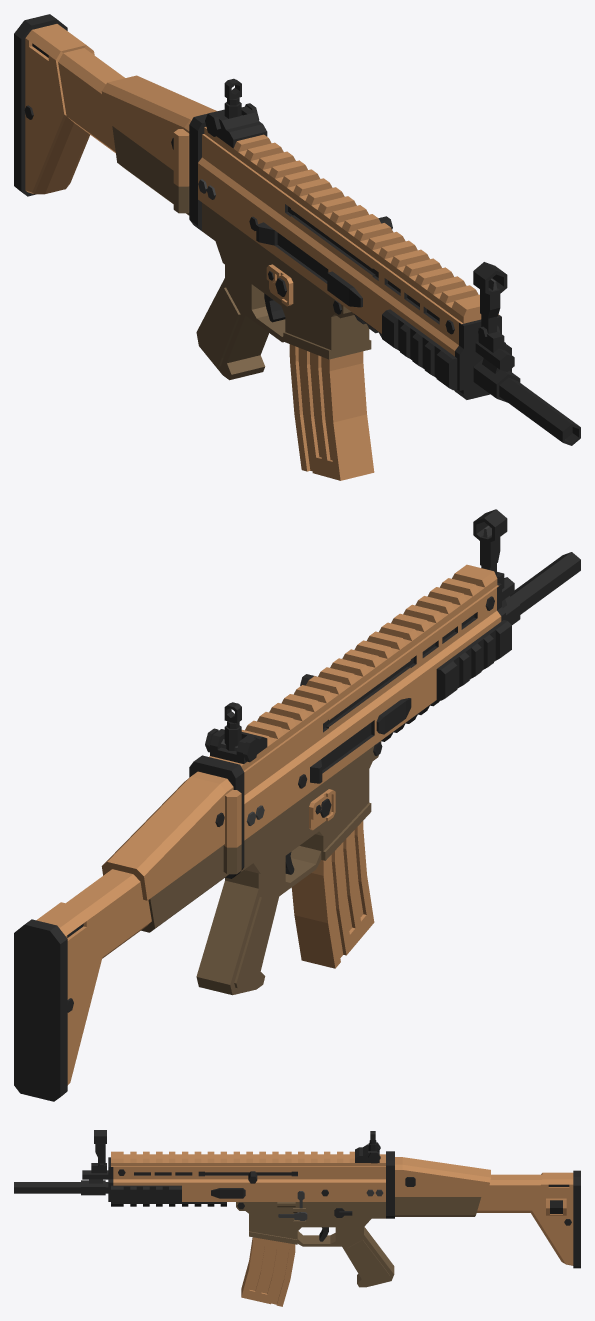
The picture shows the model from 3 angles, top to bottom: view 1: azimuth 30°, elevation 25°; view 2: azimuth 150°, elevation 25°; view 3: azimuth 270°, elevation 25°; orthographic projection. The views are drawn at different scales.
Visible parts, largest first — view 1: AR_C_Receiver_Up, AR_C_Stock_Part, AR_C_Receiver_Down, AR_C_Mag, AR_C_Stock, AR_C_Grip, AR_C_Barrel, AR_C_Sight_Forward, AR_C_Sight_Back, AR_C_Sight_Back_Part; view 2: AR_C_Receiver_Up, AR_C_Stock_Part, AR_C_Stock, AR_C_Receiver_Down, AR_C_Mag, AR_C_Grip, AR_C_Barrel, AR_C_Sight_Forward, AR_C_Sight_Back, AR_C_Sight_Back_Part; view 3: AR_C_Receiver_Up, AR_C_Stock_Part, AR_C_Stock, AR_C_Receiver_Down, AR_C_Mag, AR_C_Grip, AR_C_Barrel, AR_C_Sight_Back, AR_C_Sight_Forward.
Boxes of the visible parts, x1,y1,x2,y2 form: AR_C_Receiver_Up: (189, 109, 511, 399); AR_C_Stock_Part: (14, 14, 125, 196); AR_C_Receiver_Down: (202, 202, 371, 359); AR_C_Mag: (289, 344, 374, 480); AR_C_Stock: (101, 75, 216, 215); AR_C_Grip: (196, 265, 268, 380); AR_C_Barrel: (473, 325, 580, 445); AR_C_Sight_Forward: (473, 262, 507, 333); AR_C_Sight_Back: (205, 103, 267, 148); AR_C_Sight_Back_Part: (224, 78, 241, 118); AR_C_Receiver_Up: (189, 564, 511, 878); AR_C_Stock_Part: (14, 869, 151, 1101); AR_C_Stock: (101, 771, 241, 932); AR_C_Receiver_Down: (240, 741, 382, 893); AR_C_Mag: (291, 821, 374, 968); AR_C_Grip: (196, 859, 281, 995); AR_C_Barrel: (496, 552, 580, 624); AR_C_Sight_Forward: (473, 509, 507, 575); AR_C_Sight_Back: (205, 728, 267, 763); AR_C_Sight_Back_Part: (224, 702, 241, 750); AR_C_Receiver_Up: (108, 1151, 394, 1218); AR_C_Stock_Part: (477, 1170, 580, 1268); AR_C_Stock: (395, 1157, 490, 1216); AR_C_Receiver_Down: (236, 1191, 385, 1246); AR_C_Mag: (241, 1237, 295, 1306); AR_C_Grip: (339, 1227, 394, 1287); AR_C_Barrel: (14, 1163, 108, 1195); AR_C_Sight_Back: (355, 1142, 380, 1163); AR_C_Sight_Forward: (94, 1130, 106, 1165).
Bounding box in the file's own units: 0.35 × 1.47 × 4.39.
